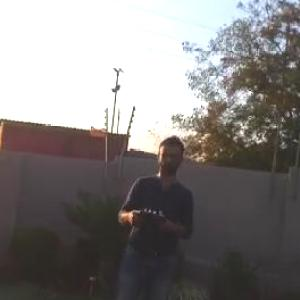follow: (102, 125, 201, 299)
